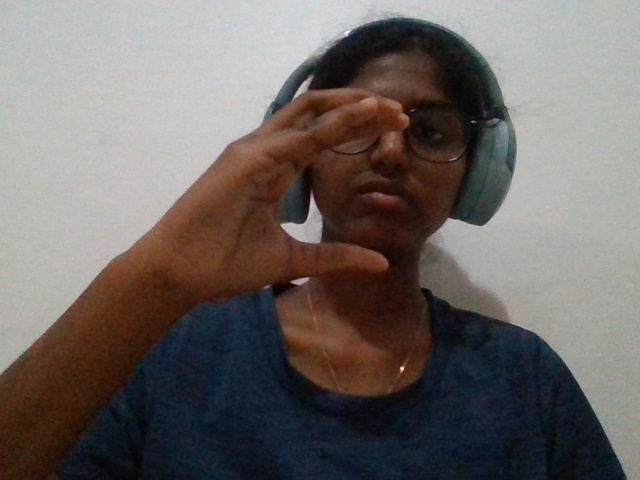C: (51, 1, 428, 375)
